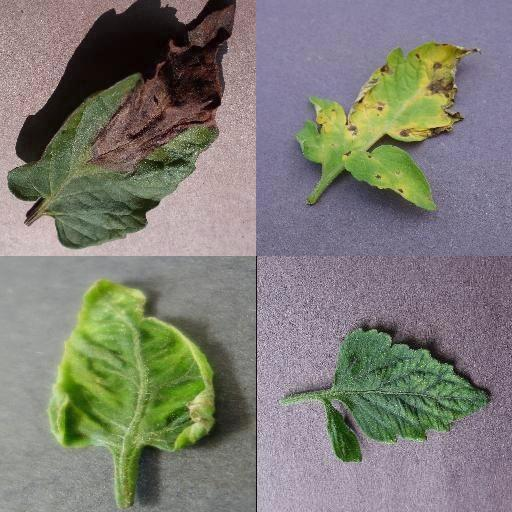Late Blight: (7, 0, 237, 246)
Mosaic Virus: (330, 329, 494, 443), (326, 403, 364, 465)
Septoria: (298, 42, 482, 214)
Yellow Leaf Curl Virus: (49, 277, 215, 455)
